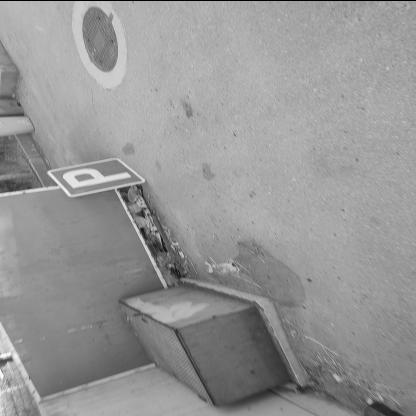Parking-Sign: (47, 157, 151, 198)
